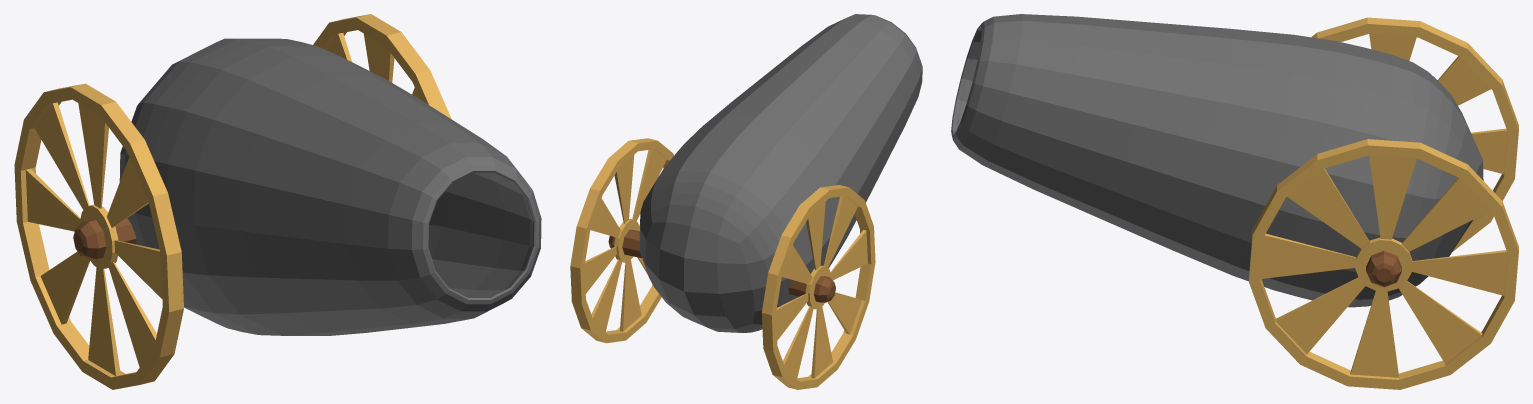
File: пушка0.fbx
The picture shows the model from 3 angles, left to right: view 1: azimuth 30°, elevation 25°; view 2: azimuth 150°, elevation 25°; view 3: azimuth 270°, elevation 25°; orthographic projection. The views are drawn at different scales.
Visible parts, largest first — view 1: Cube, Cylinder.002, Cylinder, Cylinder.001; view 2: Cube, Cylinder.002, Cylinder, Cylinder.001; view 3: Cube, Cylinder, Cylinder.002, Cylinder.001.
Boxes of the visible parts, left/top/right/bottom form: Cube: left=119, top=38, right=541, bottom=335; Cylinder.002: left=14, top=83, right=183, bottom=389; Cylinder: left=313, top=14, right=451, bottom=119; Cylinder.001: left=73, top=218, right=136, bottom=259; Cube: left=639, top=14, right=922, bottom=332; Cylinder.002: left=761, top=185, right=875, bottom=389; Cylinder: left=570, top=138, right=673, bottom=343; Cylinder.001: left=608, top=227, right=835, bottom=302; Cube: left=951, top=14, right=1483, bottom=307; Cylinder: left=1249, top=139, right=1518, bottom=389; Cylinder.002: left=1311, top=17, right=1518, bottom=251; Cylinder.001: left=1366, top=251, right=1401, bottom=287.
Size of the model in its own units: 267 by 272 by 458.
